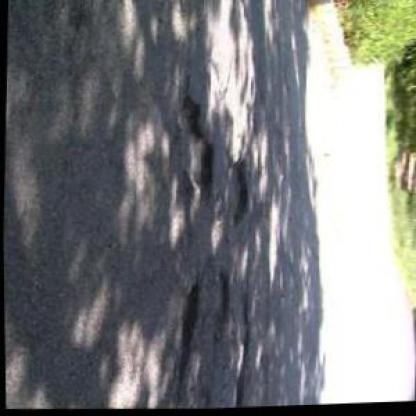pothole: (173, 95, 219, 196), (174, 282, 202, 350), (227, 158, 251, 227)
